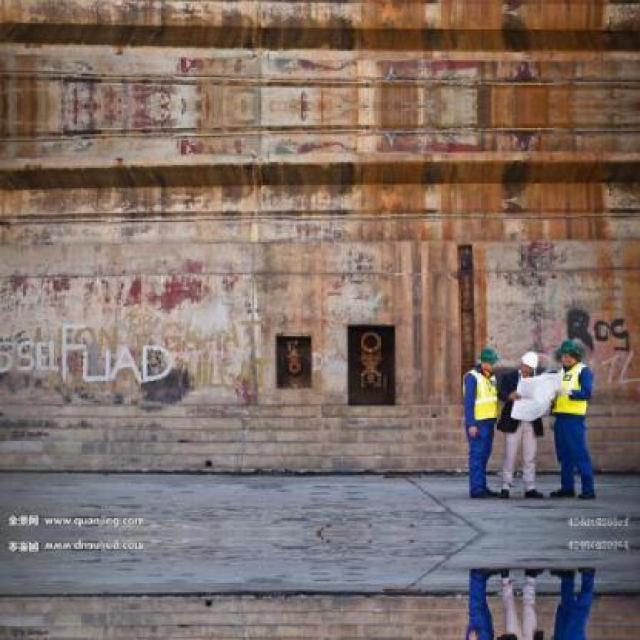helmet: (552, 330, 586, 366), (477, 339, 505, 369), (518, 346, 540, 376)
